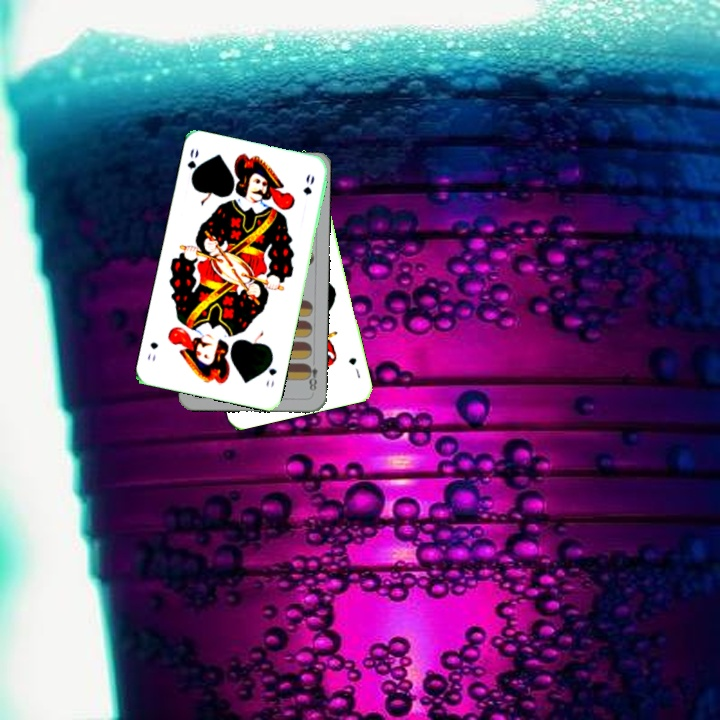E8: (303, 356, 320, 394)
GO: (183, 144, 203, 185), (262, 354, 279, 389)
GU: (345, 353, 363, 381)
